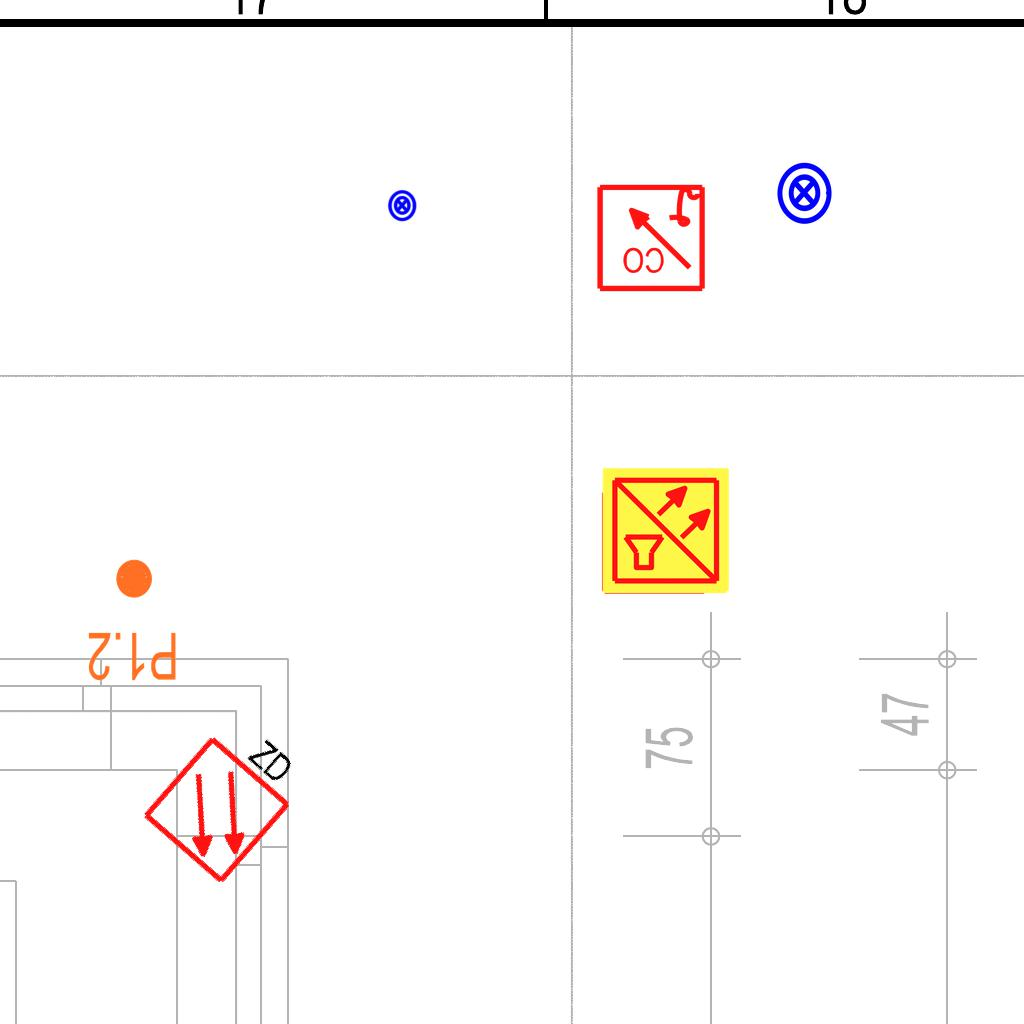Downlight_LED_Einbauleuchten_Flur: (86, 556, 179, 684)
OKW_Multisensormelder_(Kombination_optischer_Rauch-Kahlenmonoxid_Waerme-Melder): (600, 465, 732, 597)
ROA_Rauchmelder_optisch_mit_Signalgeber_(Sockelsirene): (594, 180, 707, 293)
Taster_beleuchtet: (771, 160, 837, 226), (385, 189, 418, 222), (386, 189, 419, 222)
ZD_Melder_in_Zwischendecke_mit_Revisionsoeffnung_mind_40_x_40_cm: (136, 700, 320, 889)
